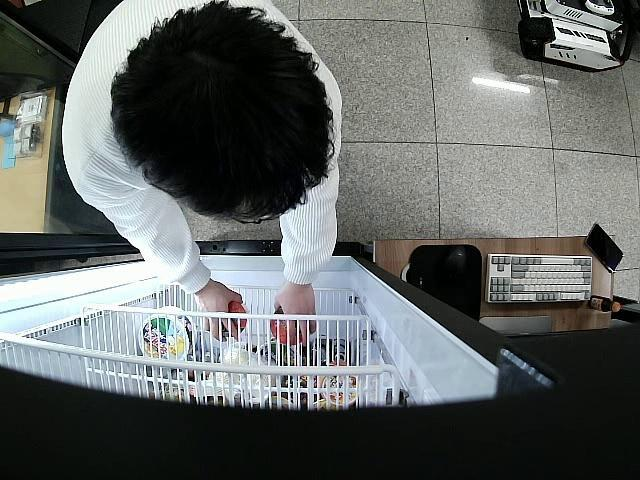02_shinRamen_S: (270, 310, 313, 346), (218, 302, 248, 340)
